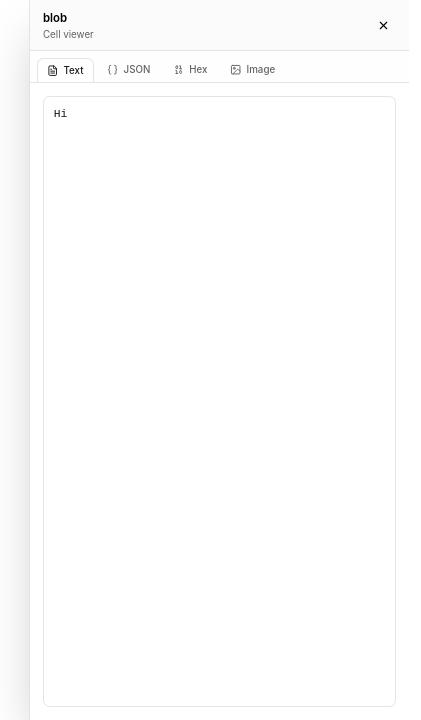
Test case: CellViewerPanel › Hex tab shows an offset-prefixed hex dump
Click the button "Hex" at (190, 70), box left=163, top=58, right=217, bottom=81
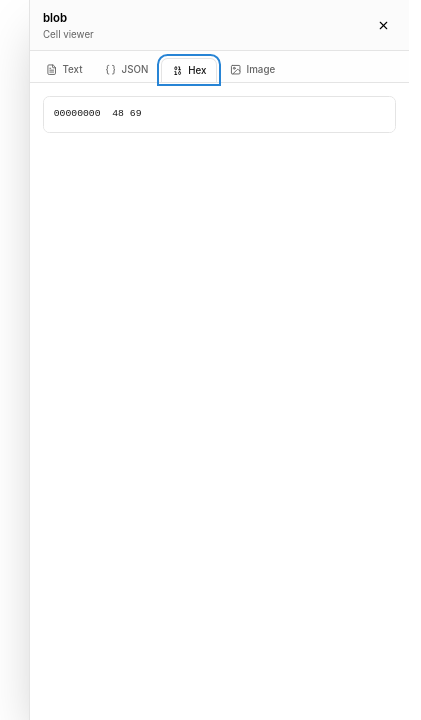
Result: the text "00000000 48 69 |Hi |" is shown at left=43, top=96, right=396, bottom=133
